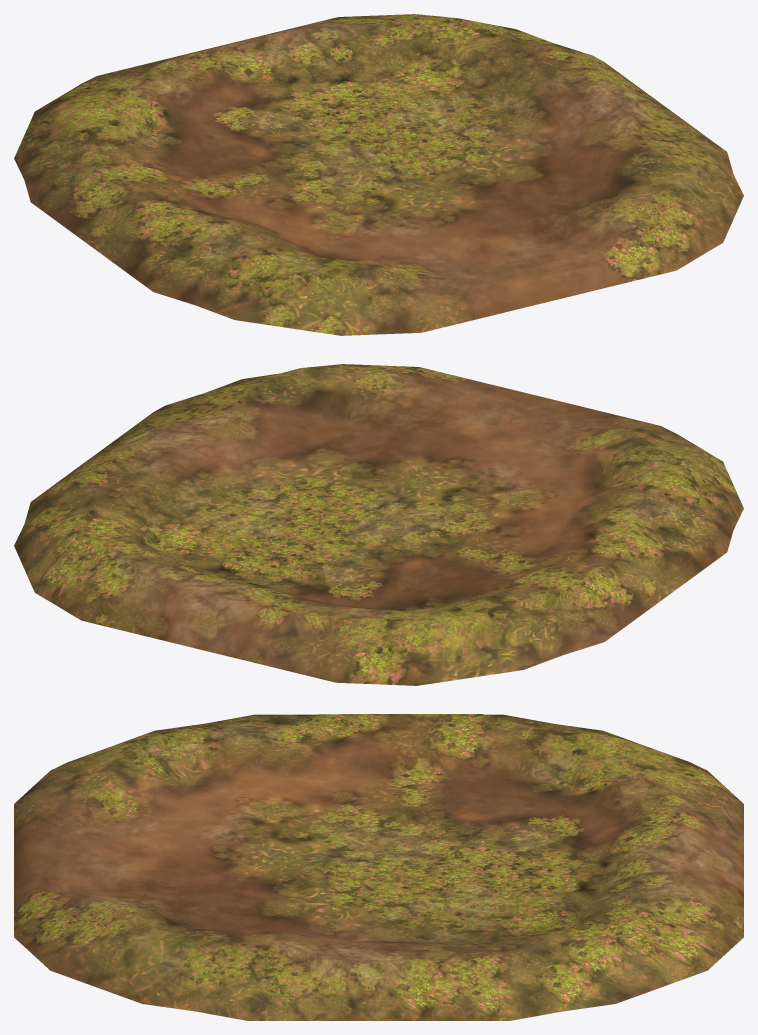
File: map001_ground.FBX
3 renders of one model, top to bottom at view 1: azimuth 30°, elevation 25°; view 2: azimuth 150°, elevation 25°; view 3: azimuth 270°, elevation 25°, orthographic. The views are drawn at different scales.
Visible parts, largest first — view 1: map001_ground, ground_141223_2; view 2: map001_ground, ground_141223_2; view 3: map001_ground, ground_141223_2.
Boxes of the visible parts, box(x1,y1,x2,y2) form: map001_ground: box(14, 14, 675, 335); ground_141223_2: box(397, 101, 743, 301); map001_ground: box(14, 396, 743, 685); ground_141223_2: box(106, 364, 539, 501); map001_ground: box(14, 714, 743, 1020); ground_141223_2: box(14, 855, 353, 1020).
Size of the model in its own units: 47.55 by 2.36 by 48.82.
